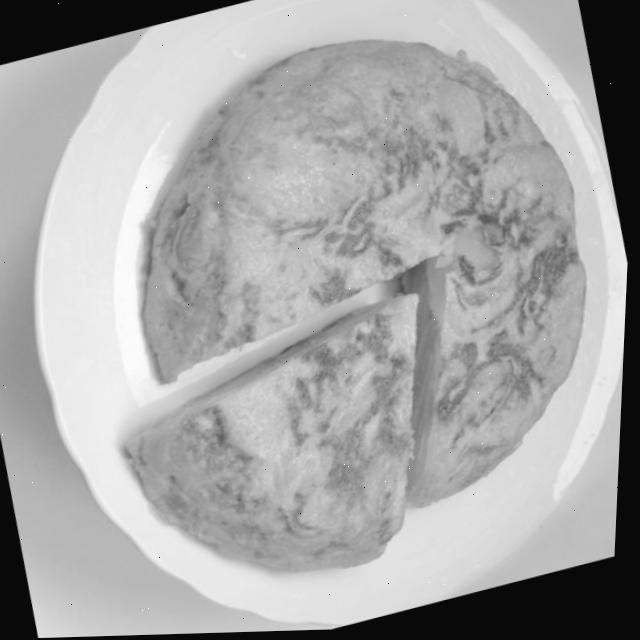面包点心: (26, 0, 640, 637)
